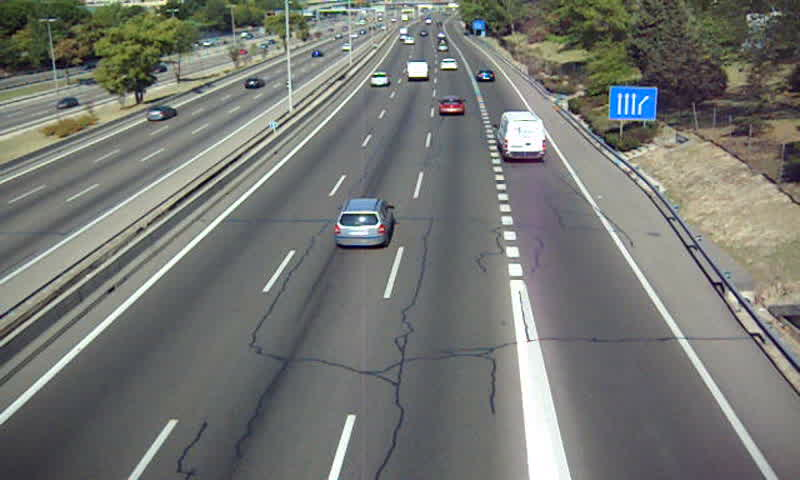car: (334, 198, 394, 247), (438, 95, 463, 116), (474, 69, 493, 85), (368, 72, 388, 87), (439, 57, 457, 71)
van: (496, 111, 547, 161), (405, 62, 428, 80)
